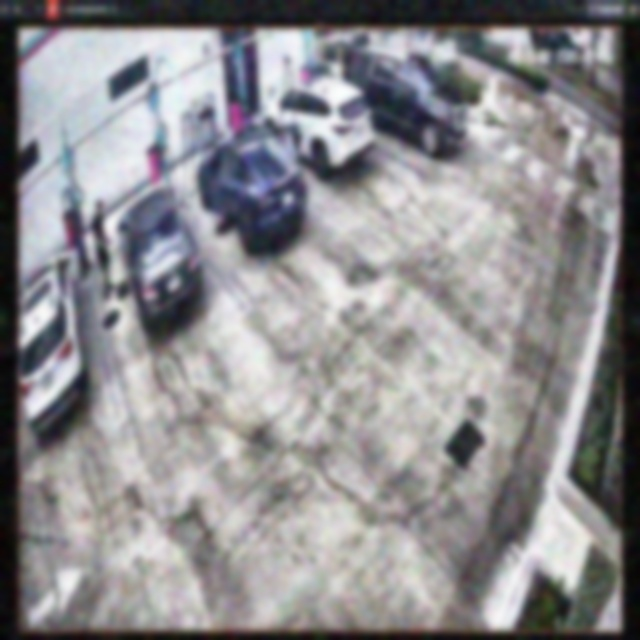Car: (198, 124, 307, 253), (344, 46, 468, 157), (118, 186, 201, 332), (263, 74, 373, 181)
